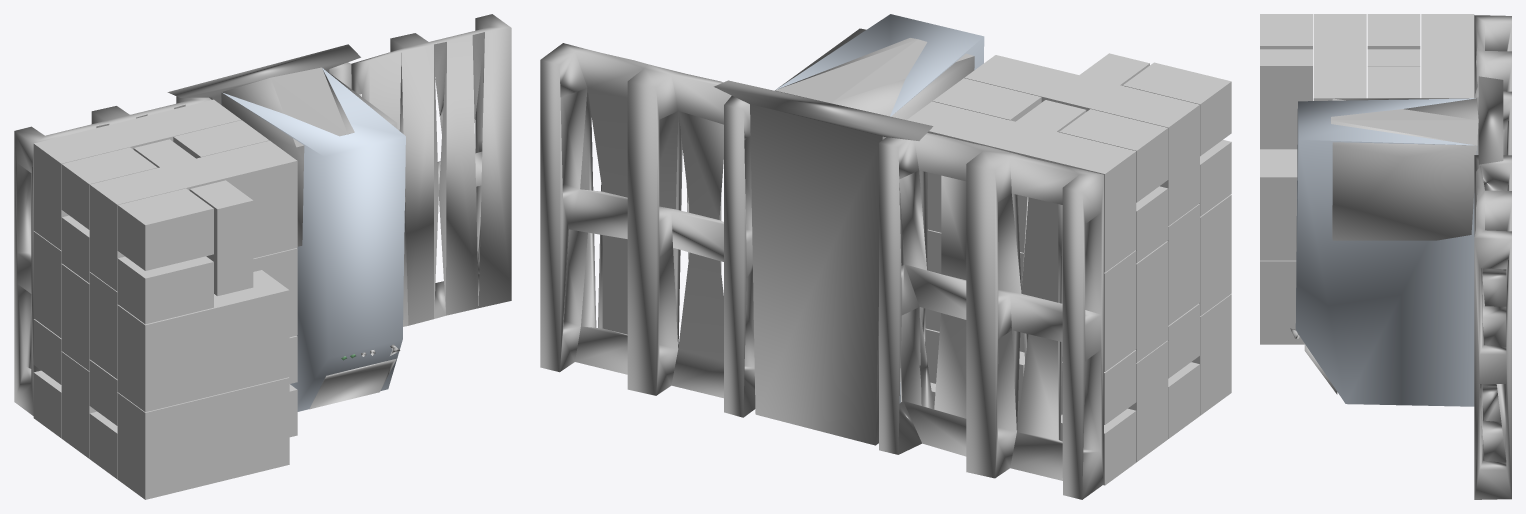
3 renders of one model, left to right at view 1: azimuth 30°, elevation 25°; view 2: azimuth 150°, elevation 25°; view 3: azimuth 270°, elevation 25°, orthographic. The views are drawn at different scales.
Visible parts, largest first — view 1: Final2; view 2: Final2; view 3: Final2.
Boxes of the visible parts, x1=… form: Final2: x1=14, y1=14, x2=511, y2=499; Final2: x1=540, y1=14, x2=1231, y2=499; Final2: x1=1260, y1=14, x2=1511, y2=499.
Bounding box in the file's own units: 219 × 124 × 104.
